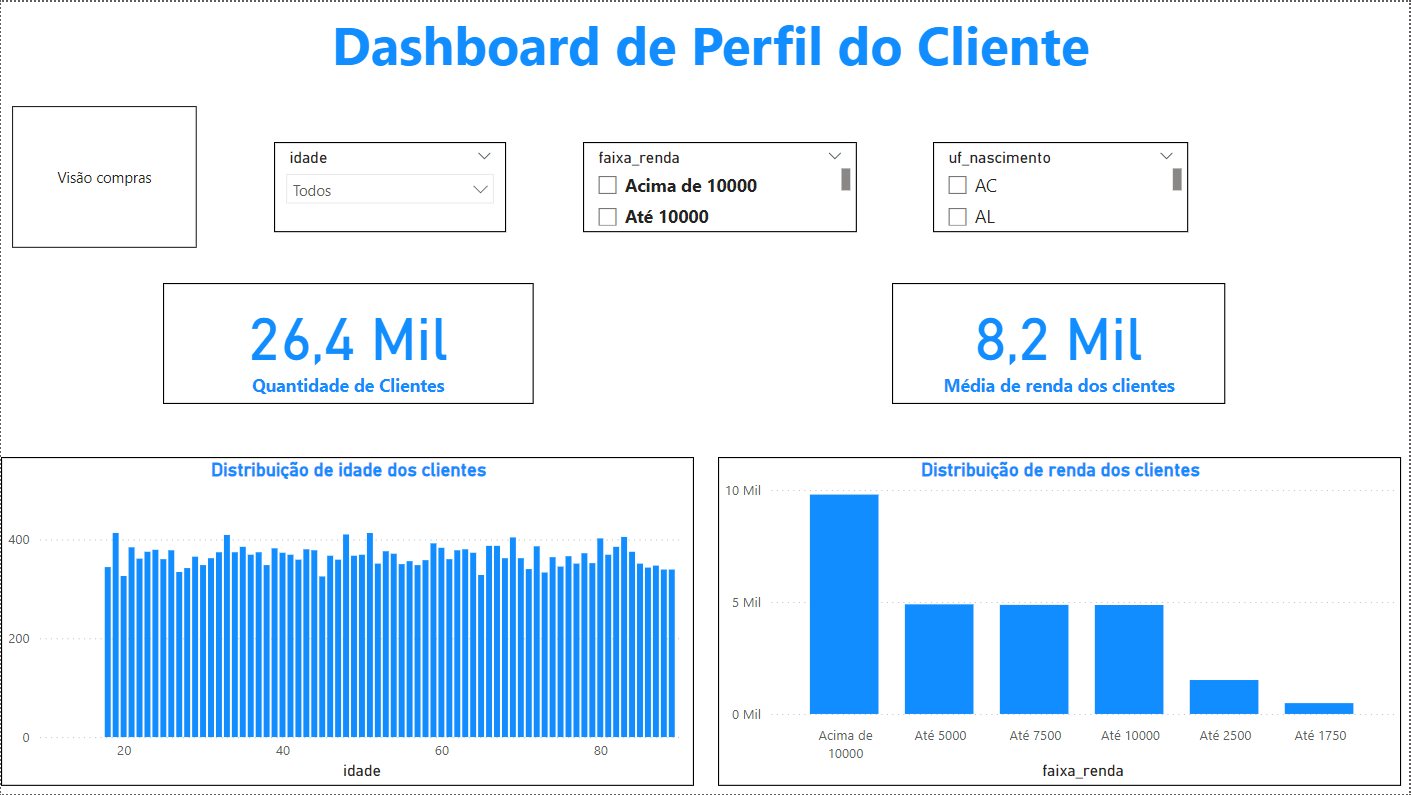

What the dashboard file says about the page in this screenshot:
{"tool":"powerbi","page":{"name":"Visão clientes","canvas":[1280,720],"ordinal":1},"visuals":[{"type":"textbox","box":[9.7,0,1270.3,95.3],"z":0},{"type":"card","title":"Quantidade de Clientes","fields":{"Values":["CountNonNull(Base cliente.cliente_Log)"]},"box":[146.9,255.8,336.5,109.9],"z":1000},{"type":"card","title":"Média de renda dos clientes","fields":{"Values":["Avg(Base cliente.renda)"]},"box":[810.2,255.8,303.5,109.9],"z":2000},{"type":"columnChart","title":"Distribuição de idade dos clientes","fields":{"Category":["Base cliente.idade"],"Y":["CountNonNull(Base cliente.cliente_Log)"]},"box":[0,413.4,630.3,298.6],"z":3000},{"type":"columnChart","title":"Distribuição de renda dos clientes","fields":{"Category":["Base cliente.faixa_renda"],"Y":["CountNonNull(Base cliente.cliente_Log)"]},"box":[651.7,413.4,620.5,298.6],"z":4000},{"type":"slicer","fields":{"Values":["Base cliente.idade"]},"box":[248.3,127.4,211.3,82.1],"z":5000},{"type":"slicer","fields":{"Values":["Base cliente.faixa_renda"]},"box":[528.9,127.4,249,81.7],"z":6000},{"type":"slicer","fields":{"Values":["Base cliente.uf_nascimento"]},"box":[847.2,127.4,232.5,81.7],"z":7000},{"type":"pageNavigator","box":[10.2,94.1,168.9,129.2],"z":7001}]}

Visuals, with their boxes in screenshot pixels (x1, y1, x2, y2), scaled from the page's 1280x720 canvas onto the 1411x795 screenshot:
textbox: rect(11, 0, 1410, 105)
"Quantidade de Clientes" card: rect(162, 282, 533, 404)
"Média de renda dos clientes" card: rect(893, 282, 1228, 404)
"Distribuição de idade dos clientes" columnChart: rect(0, 456, 695, 786)
"Distribuição de renda dos clientes" columnChart: rect(718, 456, 1402, 786)
slicer - Base cliente.idade: rect(274, 141, 507, 231)
slicer - Base cliente.faixa_renda: rect(583, 141, 858, 231)
slicer - Base cliente.uf_nascimento: rect(934, 141, 1190, 231)
pageNavigator: rect(11, 104, 197, 247)
